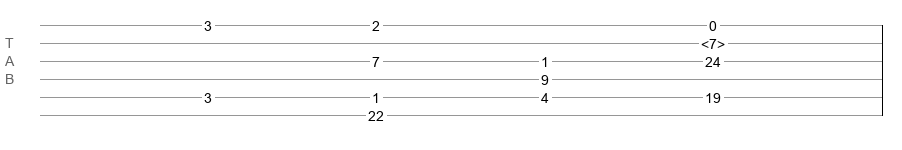0: (709, 18, 717, 28)
1: (372, 90, 380, 100), (541, 54, 549, 64)
19: (705, 90, 721, 100)
2: (372, 18, 380, 28)
22: (368, 108, 384, 118)
24: (705, 54, 721, 64)
3: (204, 18, 212, 28), (204, 90, 212, 100)
4: (541, 90, 549, 100)
7: (372, 54, 380, 64)
9: (541, 72, 549, 82)
harmonic: (701, 36, 725, 46)
